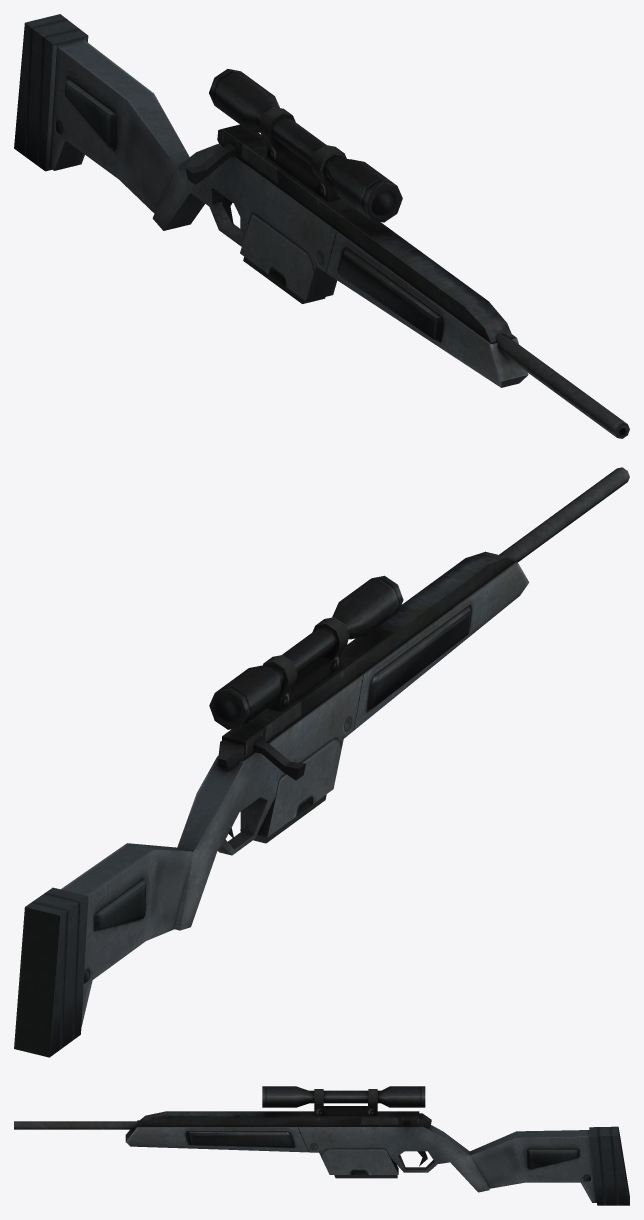
Rendered from scout.FBX.
3 renders of one model, top to bottom at view 1: azimuth 30°, elevation 25°; view 2: azimuth 150°, elevation 25°; view 3: azimuth 270°, elevation 25°, orthographic. The views are drawn at different scales.
Visible parts, largest first — view 1: SMDImporter.Mesh.w_snip_scout; view 2: SMDImporter.Mesh.w_snip_scout; view 3: SMDImporter.Mesh.w_snip_scout.
Part boxes in pixels (bbox=[...]): SMDImporter.Mesh.w_snip_scout: bbox=[14, 14, 629, 438]; SMDImporter.Mesh.w_snip_scout: bbox=[14, 467, 629, 1057]; SMDImporter.Mesh.w_snip_scout: bbox=[14, 1086, 629, 1205].
Size of the model in its own units: 8.15 by 22.65 by 111.
